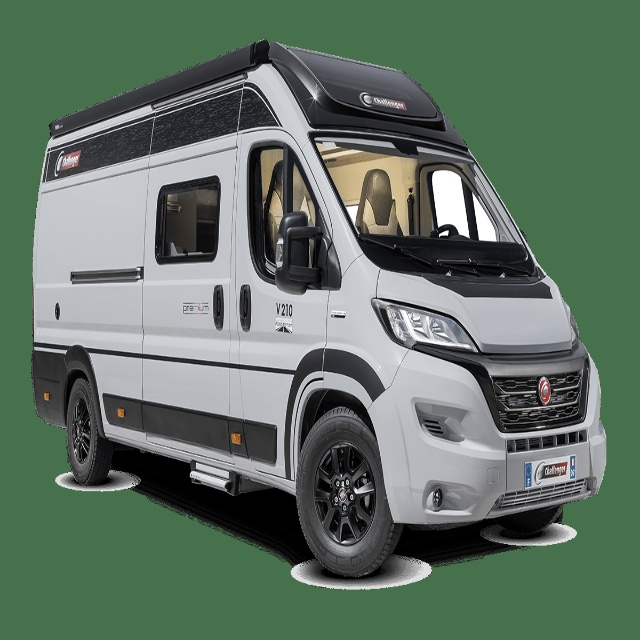Van: (31, 39, 607, 578)
